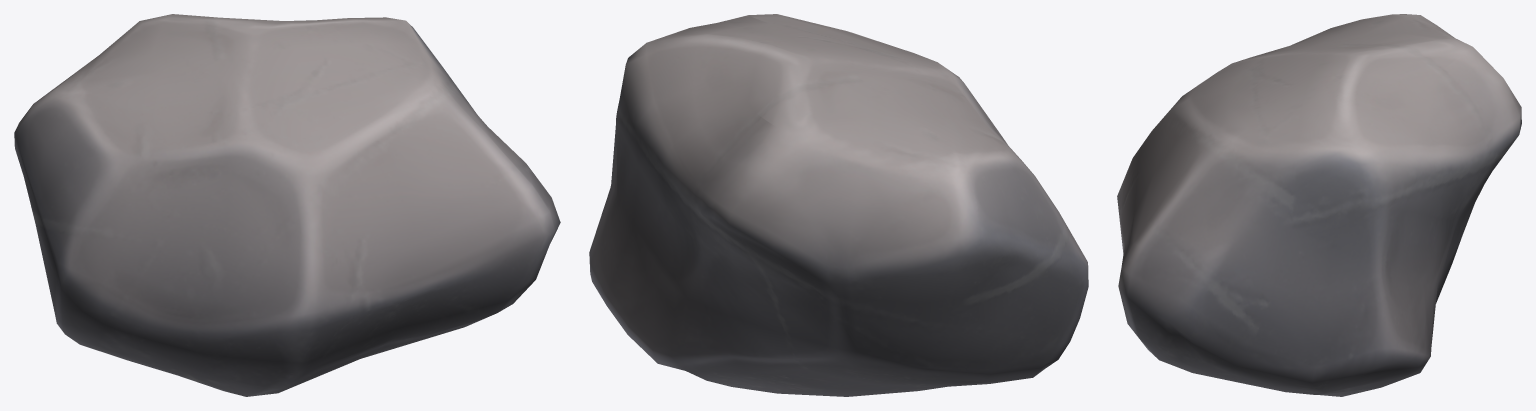
The model's file is base_rock.glb.
3 renders of one model, left to right at view 1: azimuth 30°, elevation 25°; view 2: azimuth 150°, elevation 25°; view 3: azimuth 270°, elevation 25°, orthographic. The views are drawn at different scales.
Parts seen in each view (by area): view 1: rock.004_Retopology.001_Material_0; view 2: rock.004_Retopology.001_Material_0; view 3: rock.004_Retopology.001_Material_0.
Part boxes in pixels (x1,y1,x2,y2): rock.004_Retopology.001_Material_0: (14,14,560,396); rock.004_Retopology.001_Material_0: (589,14,1088,396); rock.004_Retopology.001_Material_0: (1117,14,1521,396).
Bounding box in the file's own units: 1.76 × 1.22 × 1.43.
1 material, 1 textured.
